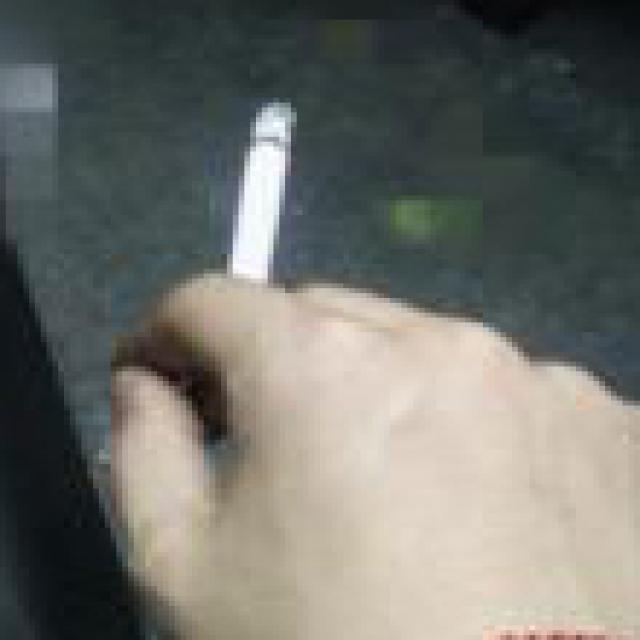smoking: (227, 99, 297, 345)
